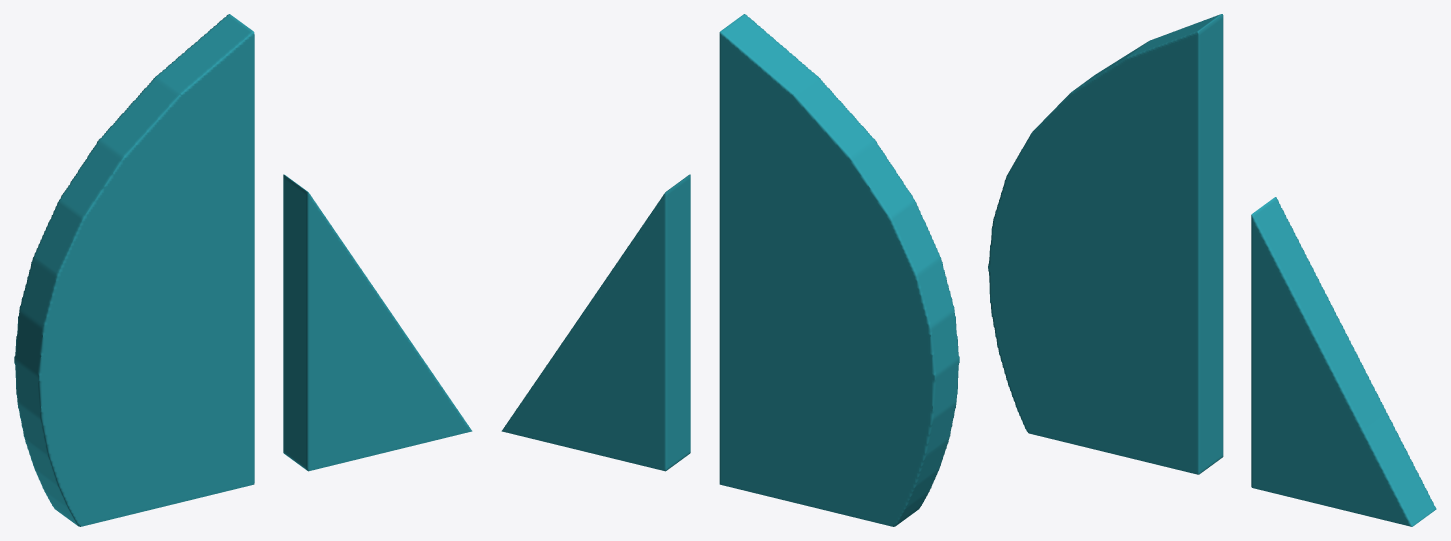
Rendered from sails.glb.
3 renders of one model, left to right at view 1: azimuth 30°, elevation 25°; view 2: azimuth 150°, elevation 25°; view 3: azimuth 330°, elevation 25°, orthographic. The views are drawn at different scales.
Parts seen in each view (by area): view 1: Curve; view 2: Curve; view 3: Curve.
Boxes of the visible parts, <box> form: Curve: <box>14,14,472,526</box>; Curve: <box>501,14,959,526</box>; Curve: <box>988,14,1436,526</box>.
Size of the model in its own units: 29.98 by 29.93 by 3.
